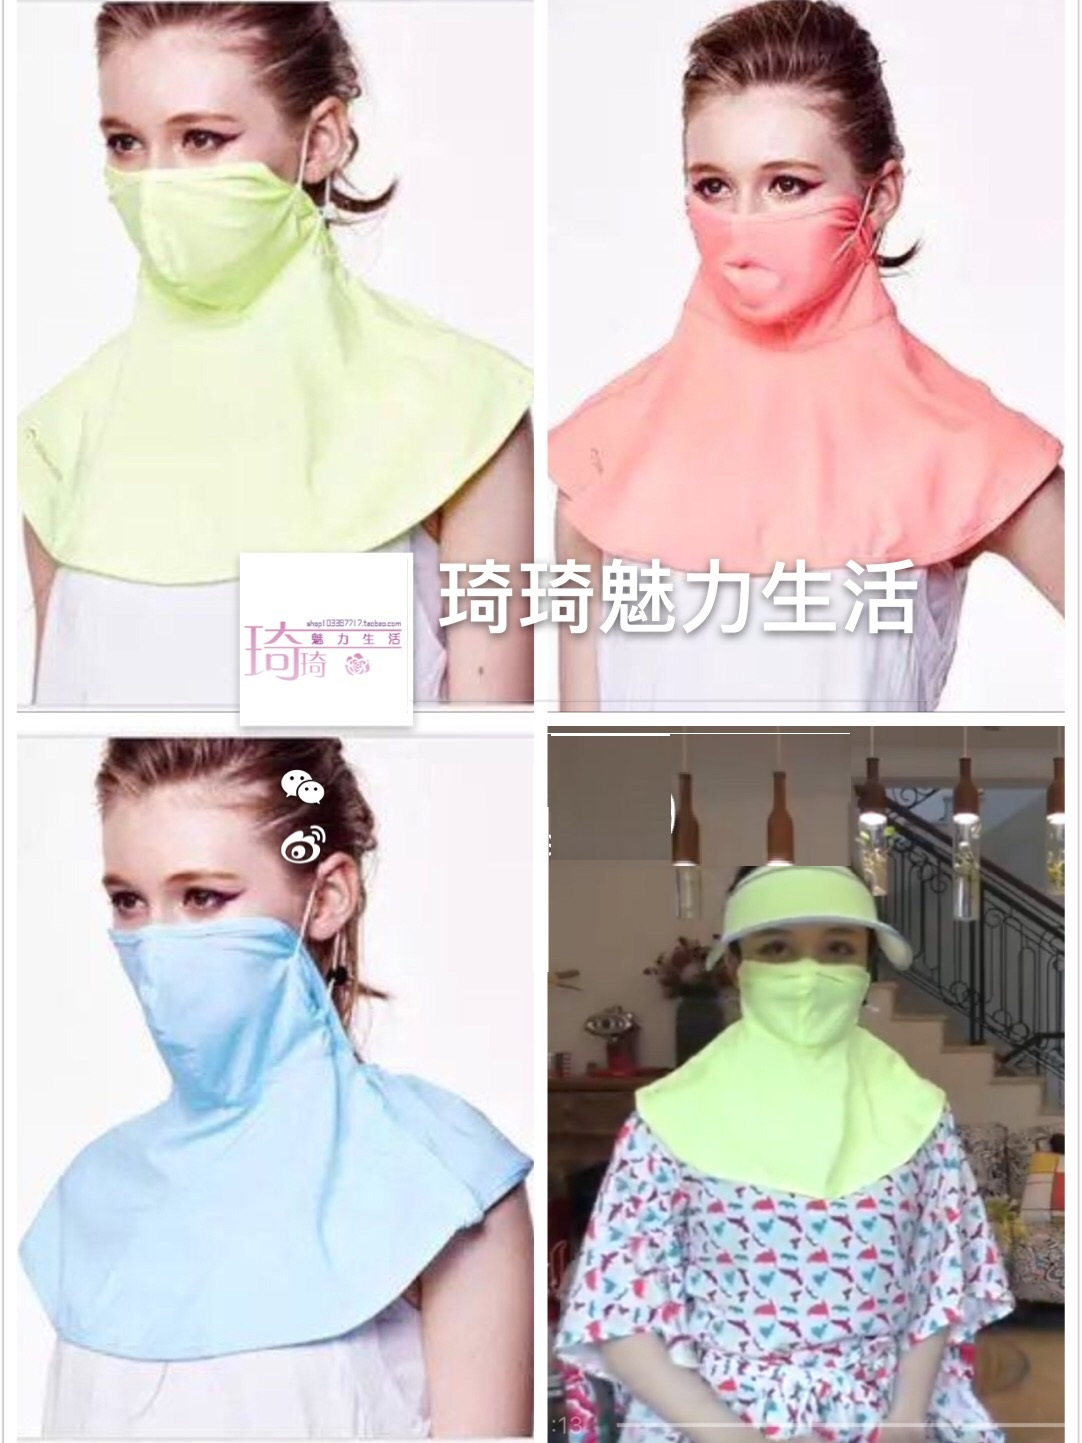face_mask: (101, 779, 299, 1097), (98, 6, 294, 313), (688, 73, 853, 323), (742, 899, 860, 1057)
